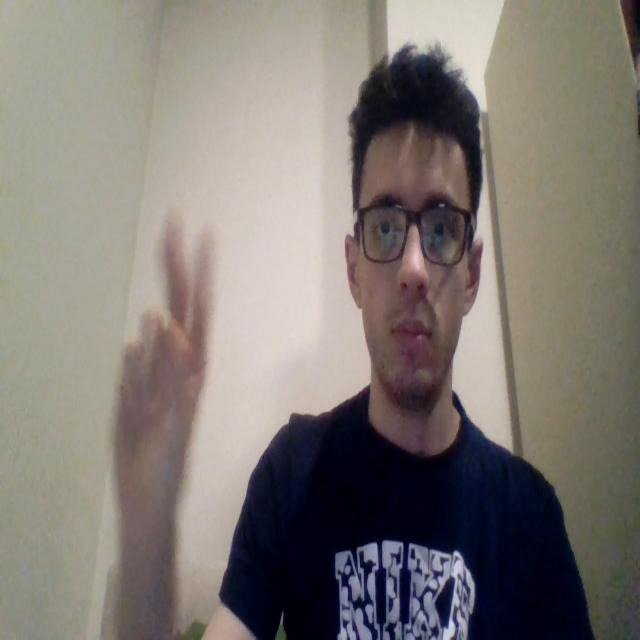no: (99, 205, 219, 525)
